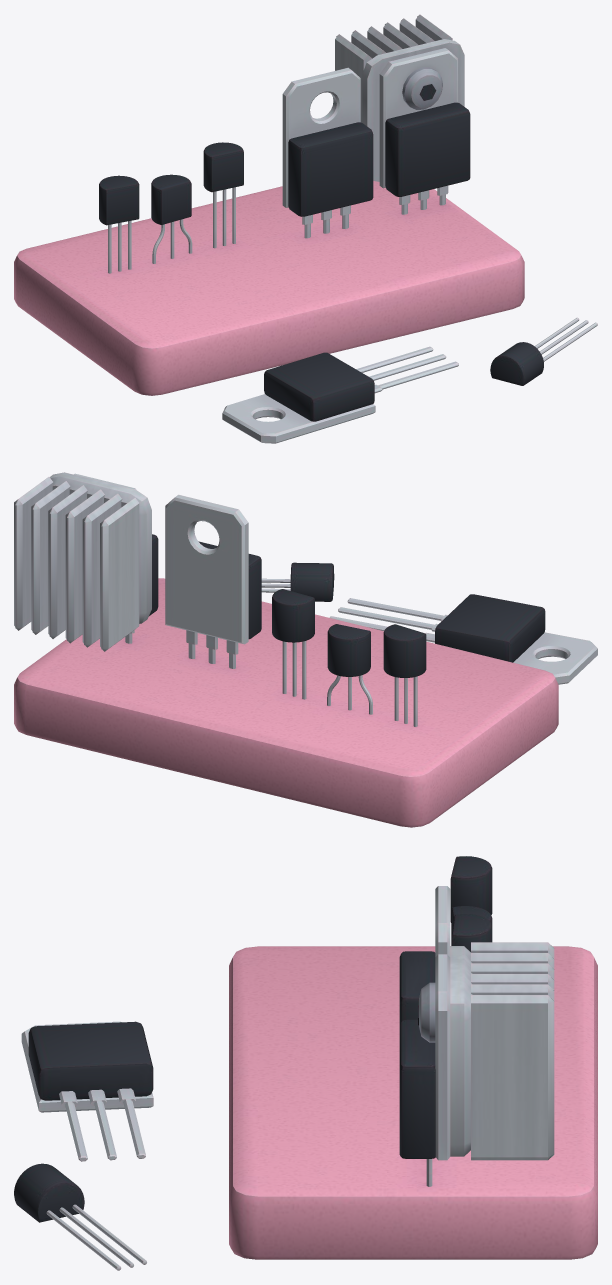
Rendered from transistor.glb.
3 renders of one model, top to bottom at view 1: azimuth 30°, elevation 25°; view 2: azimuth 150°, elevation 25°; view 3: azimuth 270°, elevation 25°, orthographic. The views are drawn at different scales.
Parts seen in each view (by area): view 1: transistor_body; view 2: transistor_body; view 3: transistor_body.
Part boxes in pixels (x1,y1,x2,y2): transistor_body: (14,14,597,443); transistor_body: (14,472,597,827); transistor_body: (14,856,597,1270).
Bounding box in the file's own units: 0.0552 × 0.0261 × 0.0506.
Materials: 1 (1 with a texture image).
